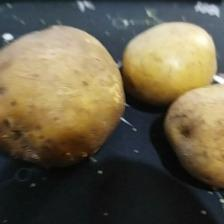Damaged potato: (0, 25, 125, 170), (161, 83, 223, 197)
Potato: (119, 21, 218, 111)
